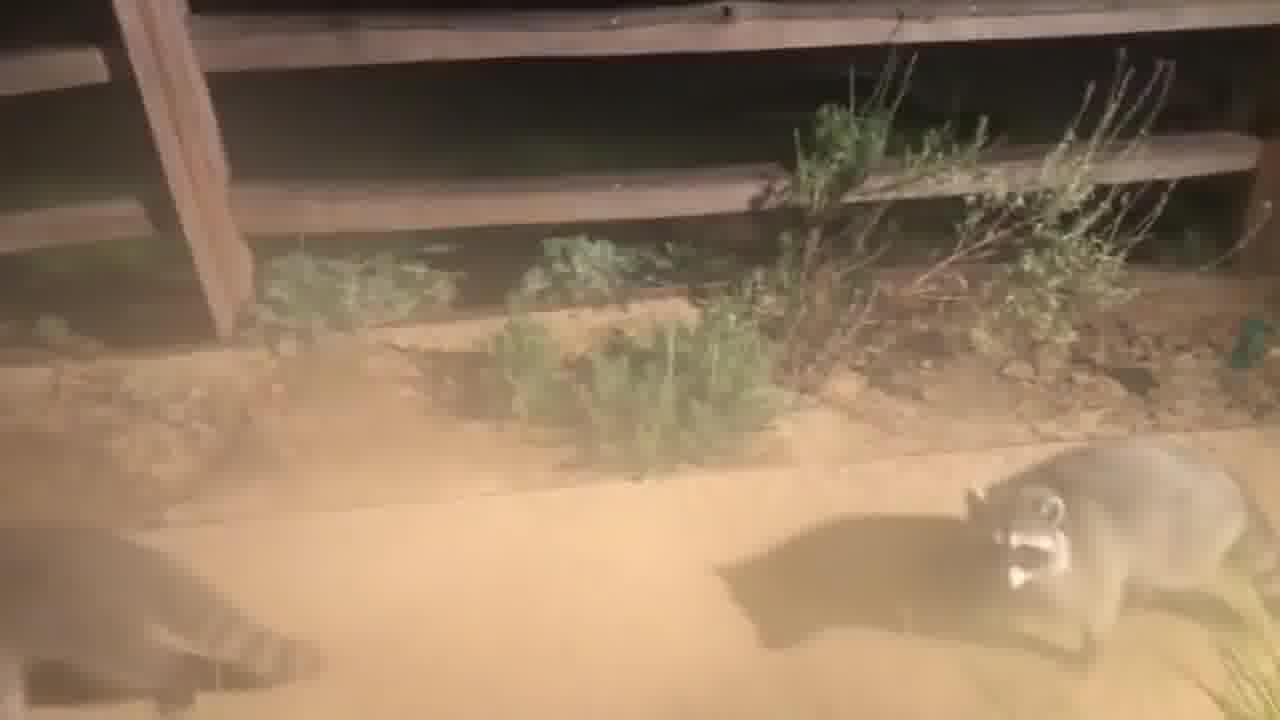raccoon: (959, 433, 1280, 701)
